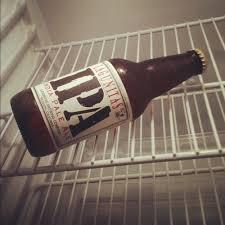beer: (10, 48, 207, 159)
